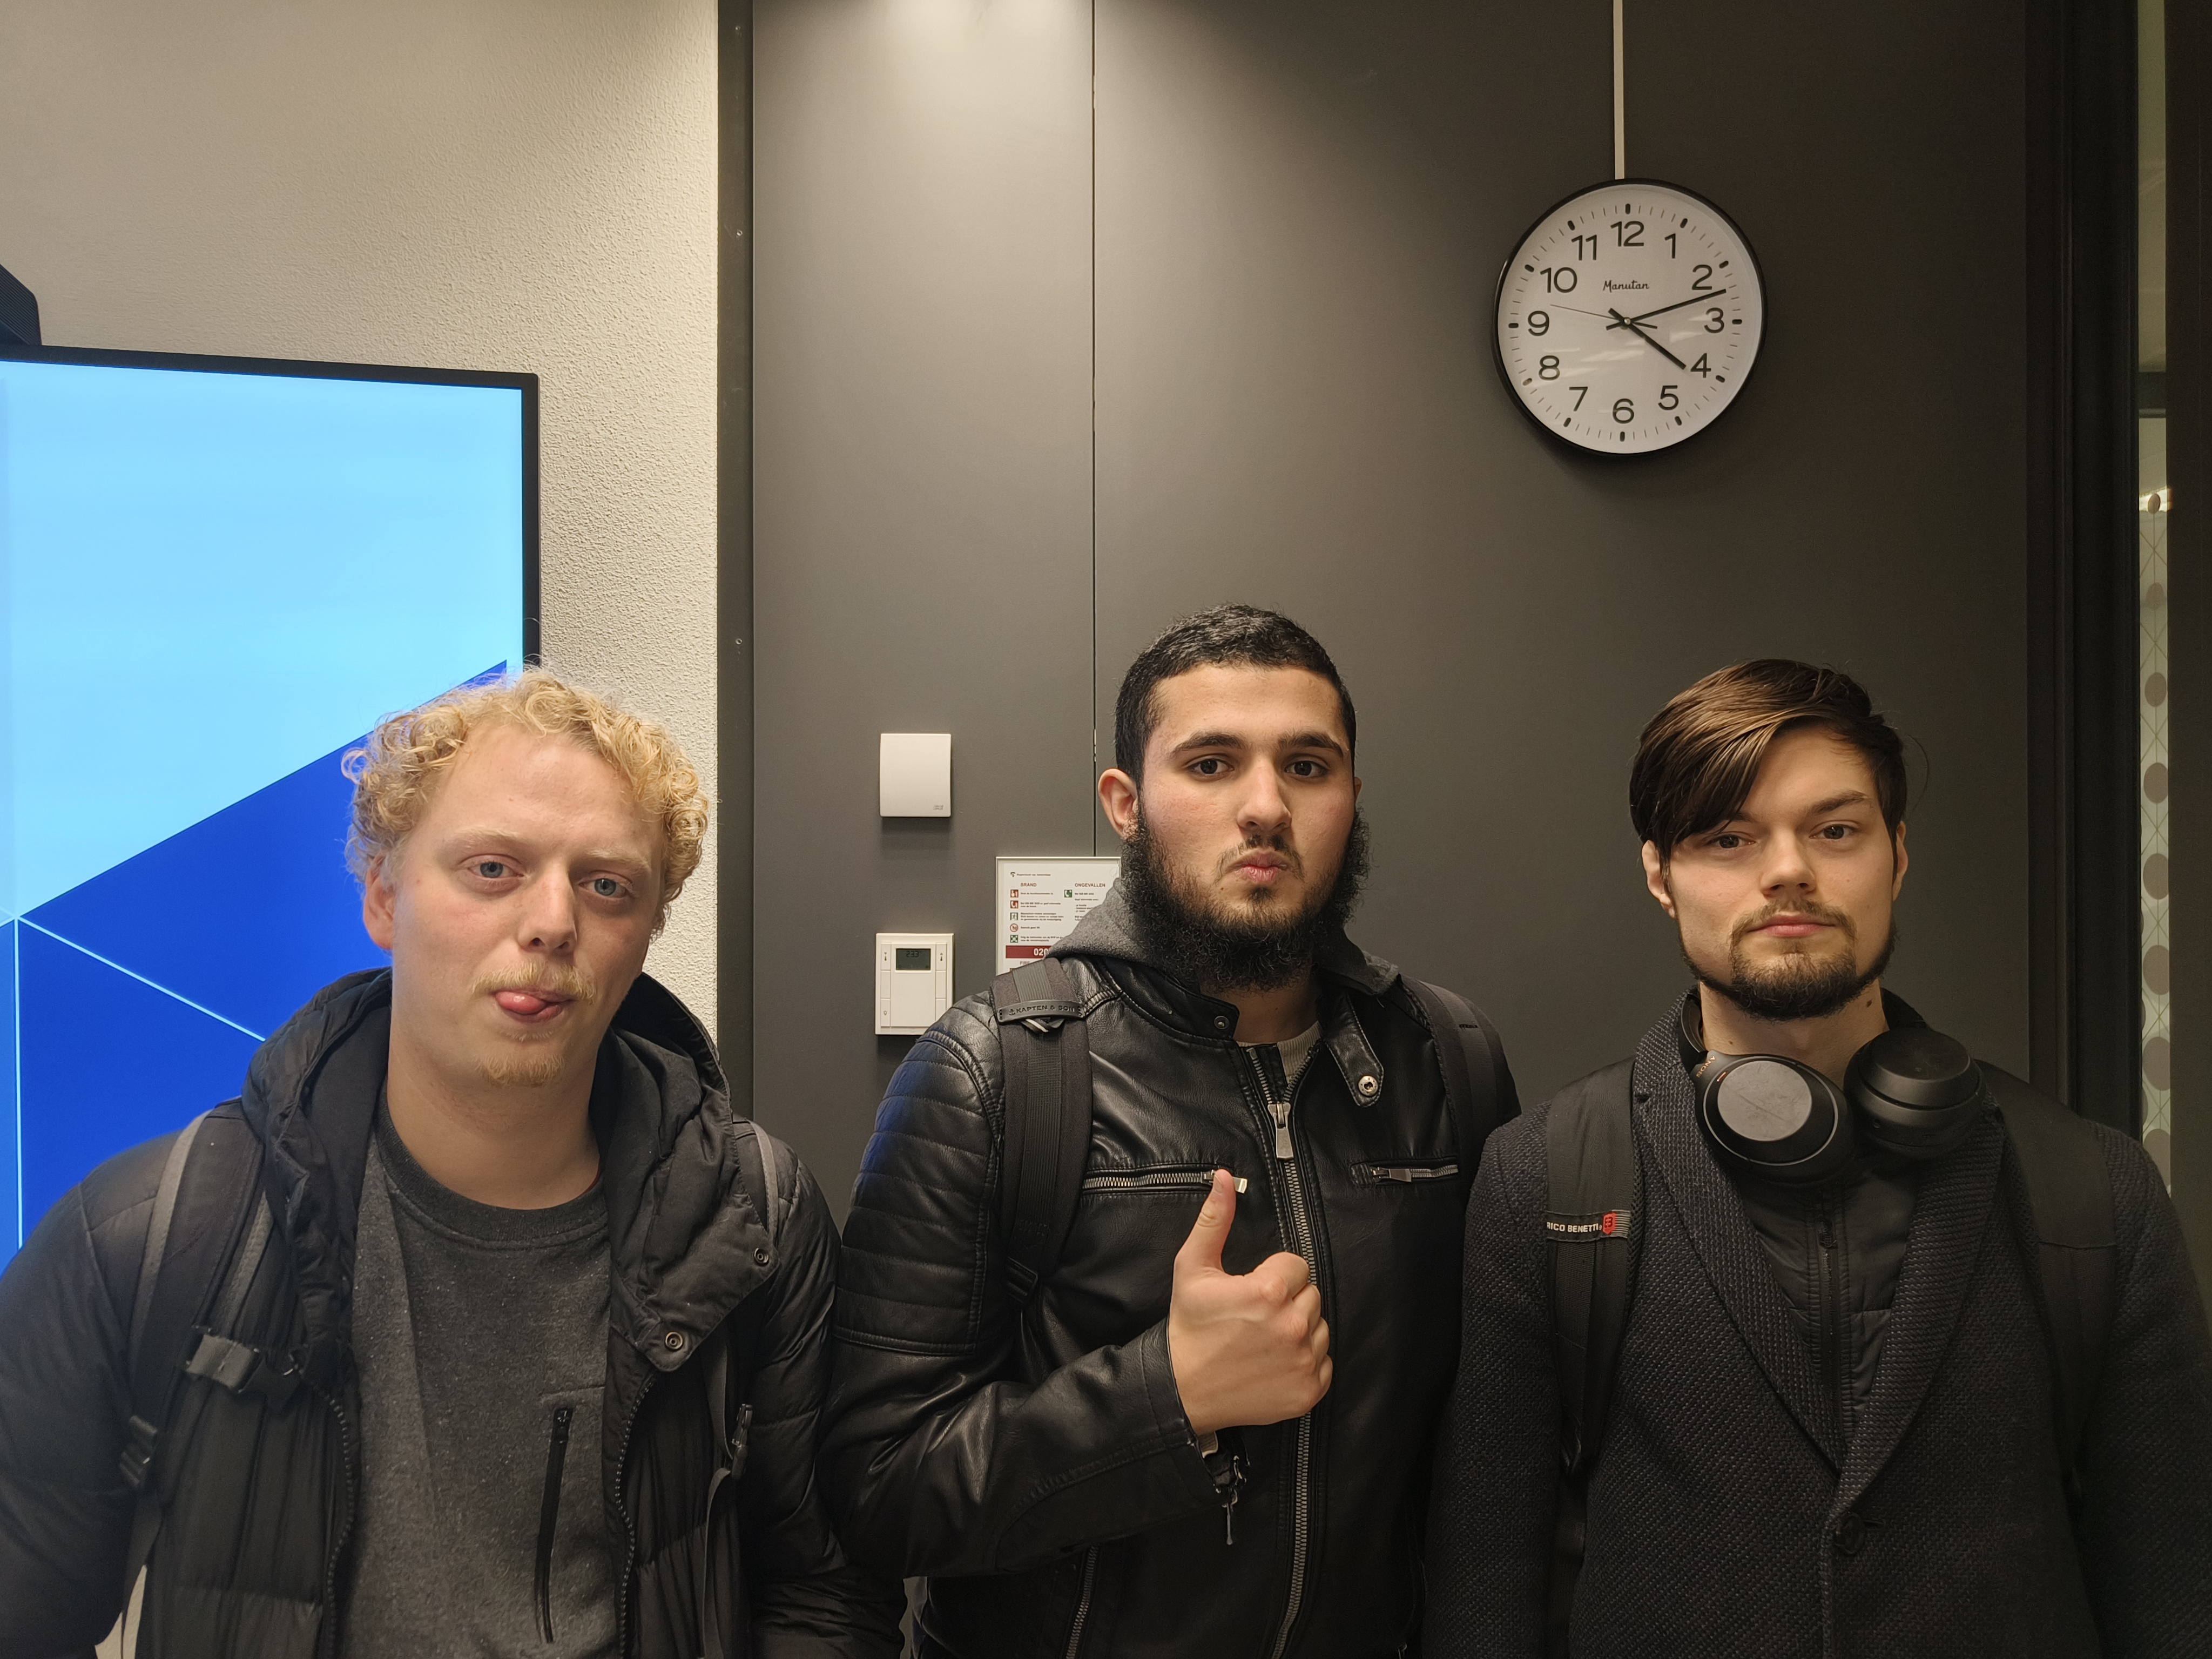face: (284, 655, 714, 1139), (1620, 677, 1938, 1058), (1083, 625, 1404, 932)
